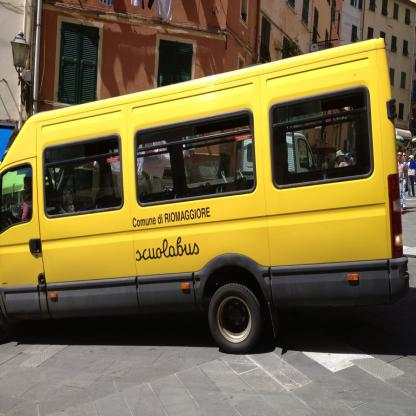Bus: (0, 37, 410, 354)
